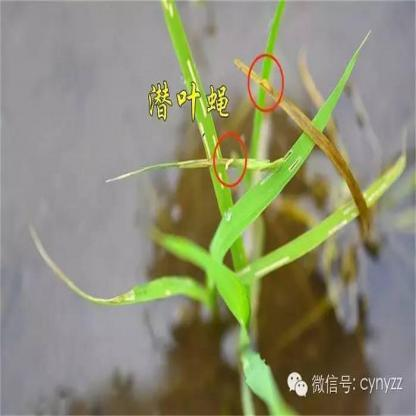whorl-maggot: (223, 152, 236, 174)
